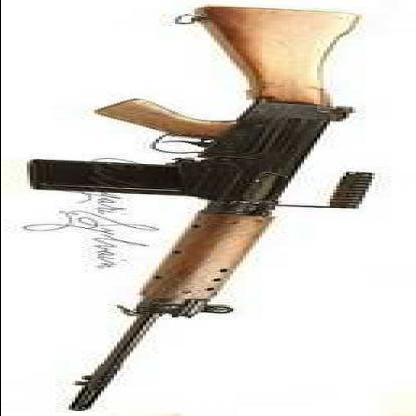rifle: (51, 7, 409, 414)
